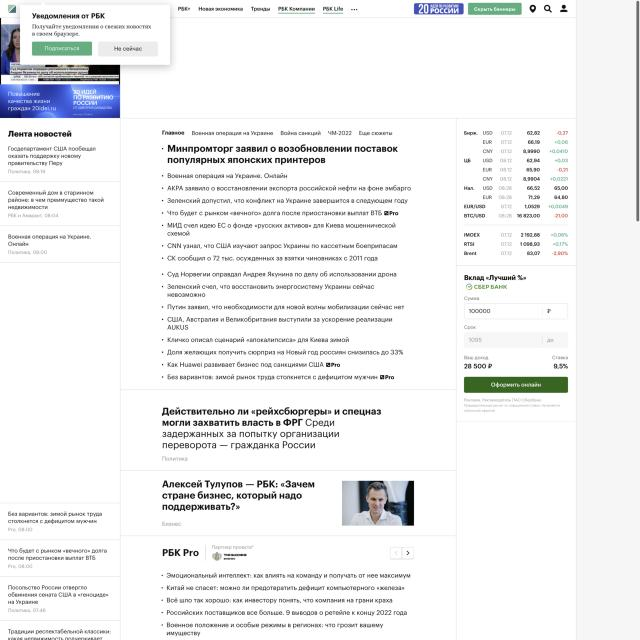input: (464, 302, 568, 320), (464, 332, 568, 348)
logo: (6, 3, 17, 14)
navigation: (160, 128, 396, 139), (174, 4, 360, 14)
